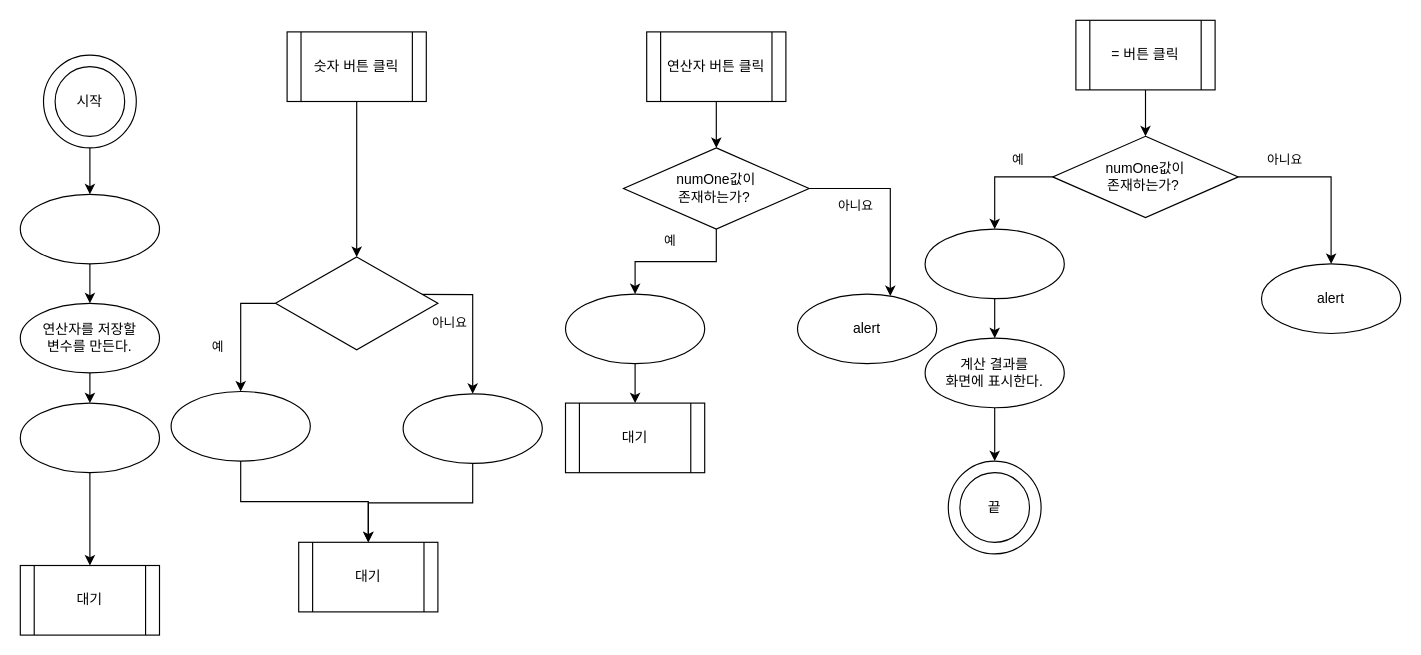
This 1421x655 diagram has some shape labels left out. Here are the shapes that lost their labels. From the top down, the centre of each, then its label:
At pixel 89 228: "숫자 1을 저장할 변수를 만든다".
At pixel 994 263: "숫자 1과 숫자 2에 연산자를 적용해 계산한다.".
At pixel 356 303: "operator 함수가 비어있는가?".
At pixel 634 328: "연산자를 변수에 저장한다.".
At pixel 89 437: "숫자 2를 저장할 변수를 만든다.".
At pixel 240 425: "numOne 변수에 숫자를 저장한다.".
At pixel 472 428: "numTwo 변수에 숫자를 저장한다.".
